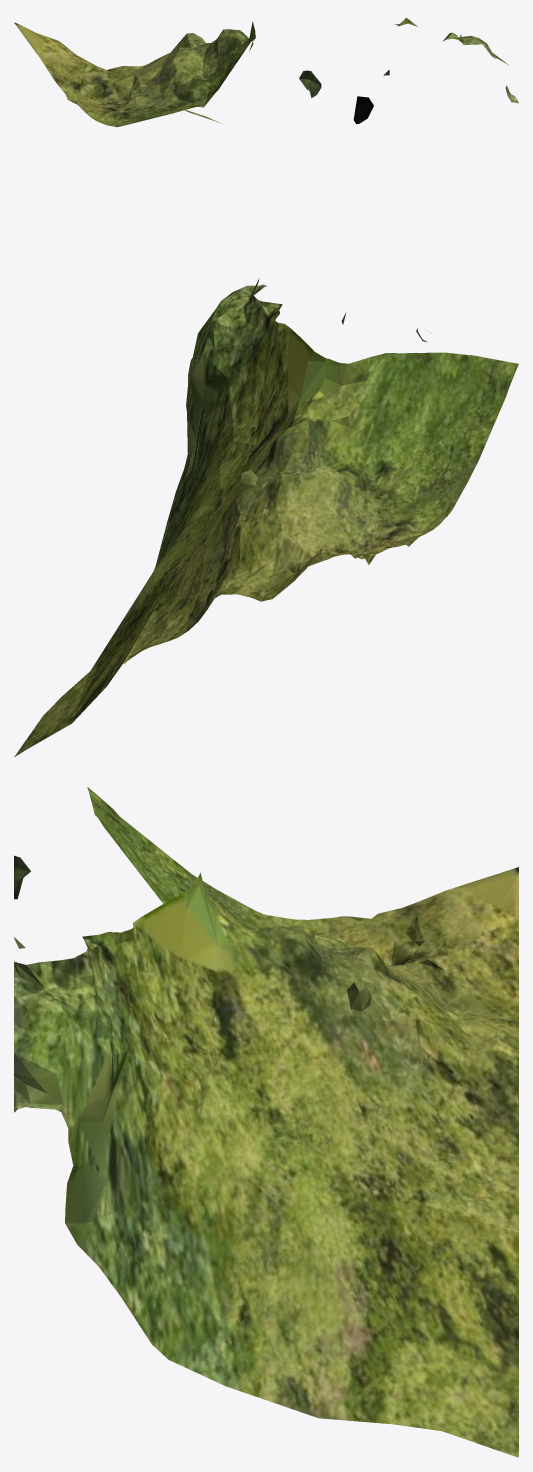
3 views of the same model, one above another, from view 1: azimuth 30°, elevation 25°; view 2: azimuth 150°, elevation 25°; view 3: azimuth 270°, elevation 25° (orthographic). The views are drawn at different scales.
Bounding box in the file's own units: 11.8 × 11.8 × 11.8.
Materials: 3 (3 with a texture image).
